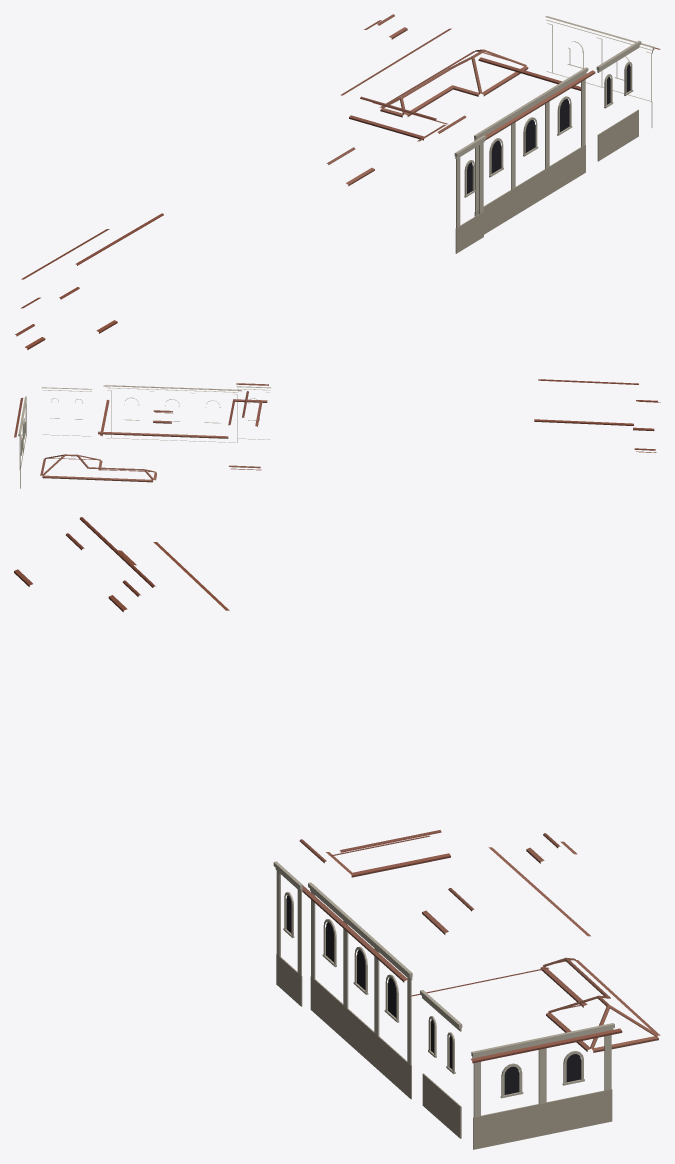
3 renders of one model, top to bottom at view 1: azimuth 30°, elevation 25°; view 2: azimuth 150°, elevation 25°; view 3: azimuth 270°, elevation 25°, orthographic. The views are drawn at different scales.
Visible parts, largest first — view 1: detail; view 2: detail; view 3: detail.
Boxes of the visible parts, bbox=[...] form: detail: bbox=[15, 14, 660, 349]; detail: bbox=[14, 379, 660, 488]; detail: bbox=[14, 517, 660, 1149].
Bounding box in the file's own units: 80.28 × 16.09 × 47.04.
